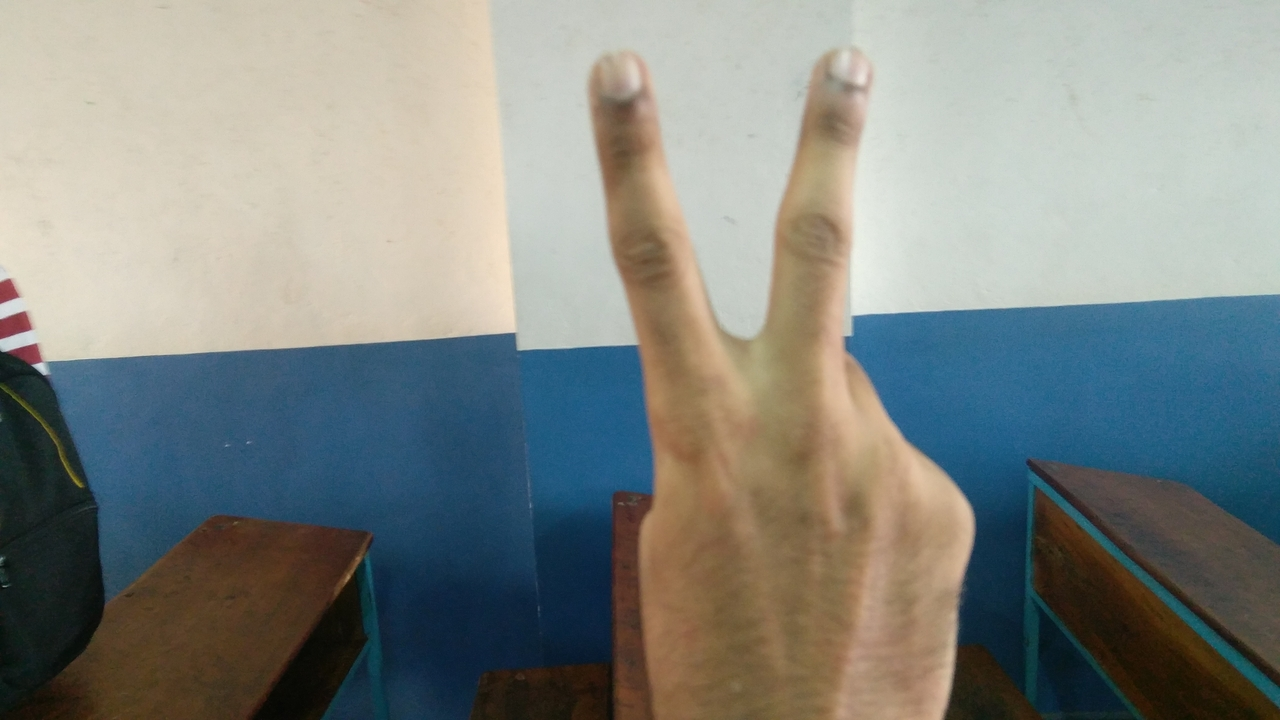fingertip: (810, 40, 882, 98), (588, 48, 654, 110)
